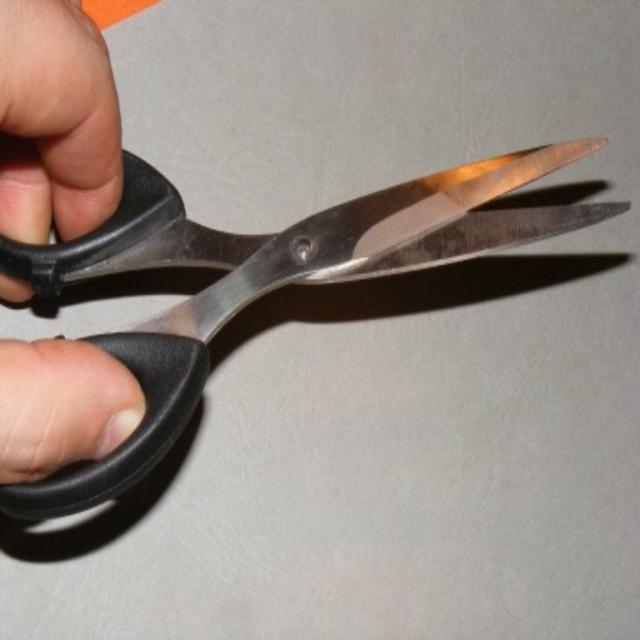scissors: (0, 134, 632, 525)
